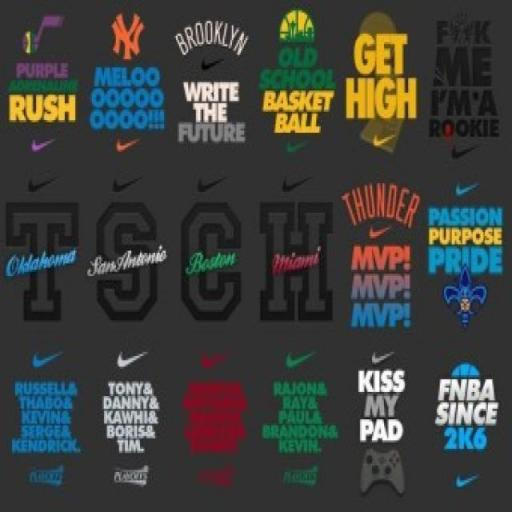Nike: (194, 171, 230, 194)
